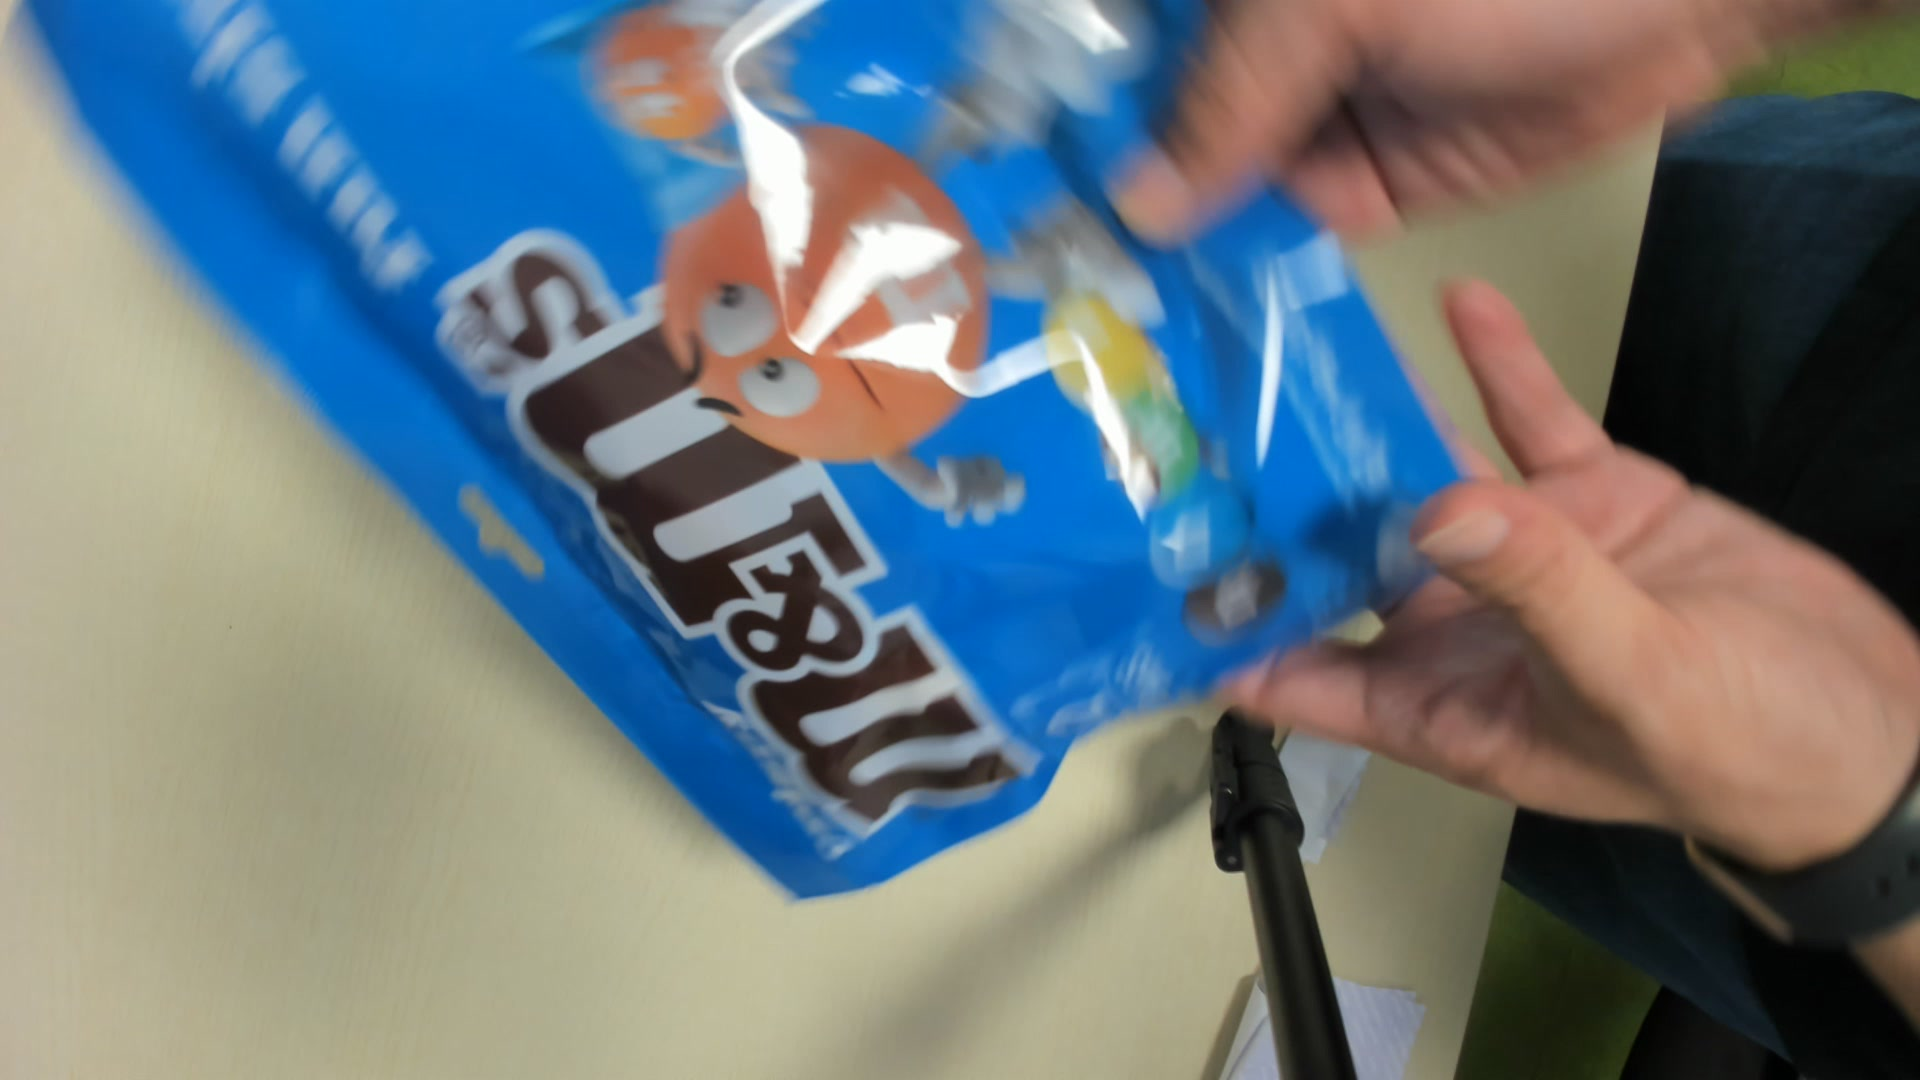SweetsChocolatesOthers_100-199g_Halal_Nonhealthy: (26, 5, 1462, 889)
